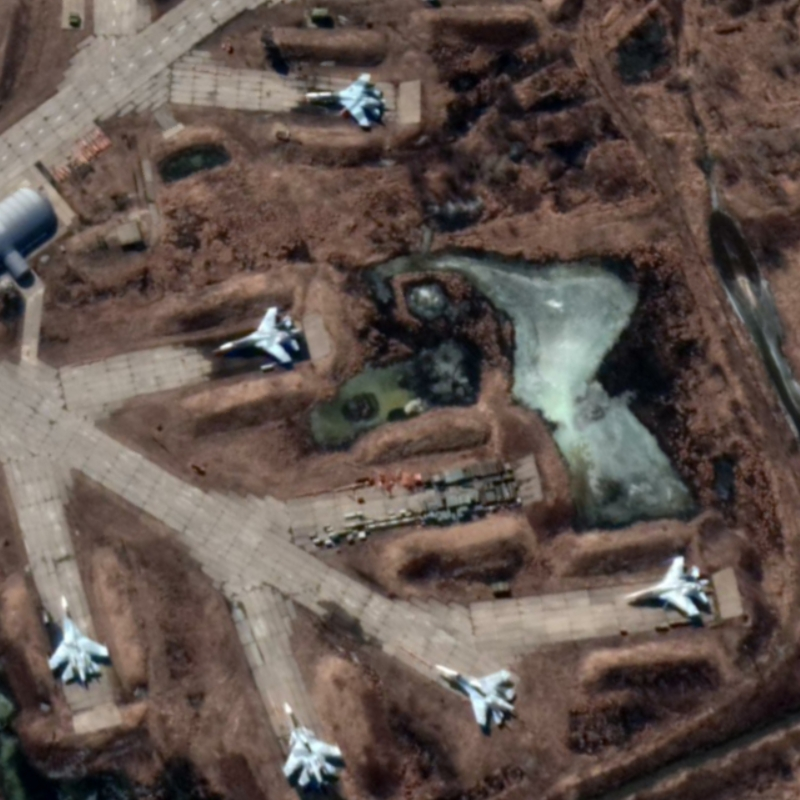A1: (44, 592, 112, 686), (621, 552, 713, 620), (430, 660, 518, 731), (208, 303, 304, 367), (298, 70, 390, 131)
A19: (279, 699, 344, 789)
